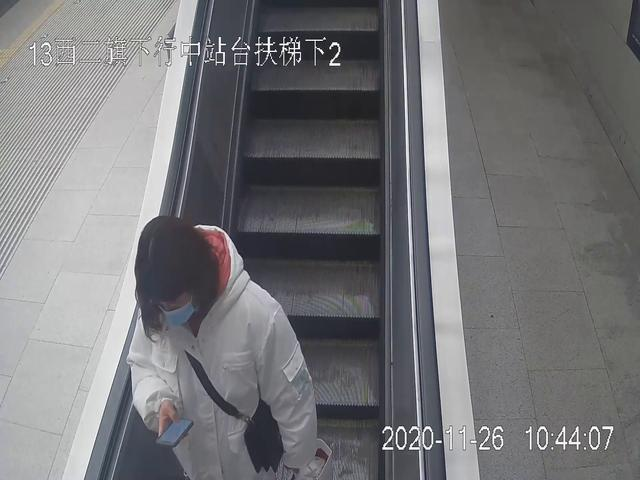person: (126, 215, 319, 480)
